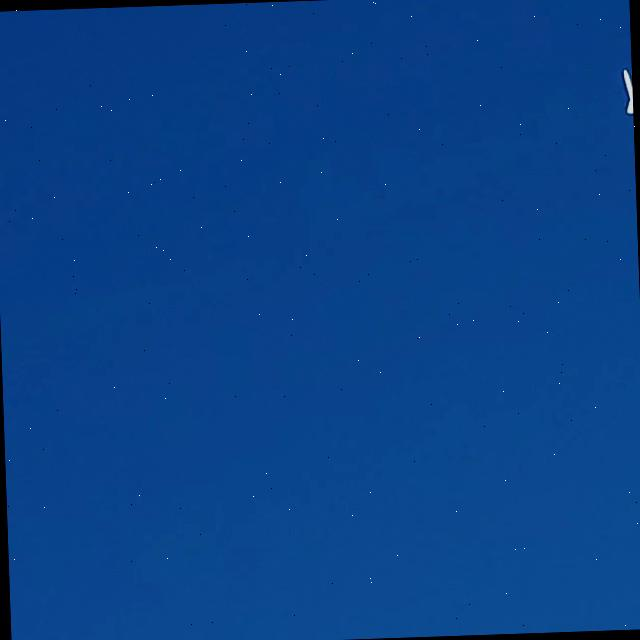rocket: (621, 71, 633, 119)
